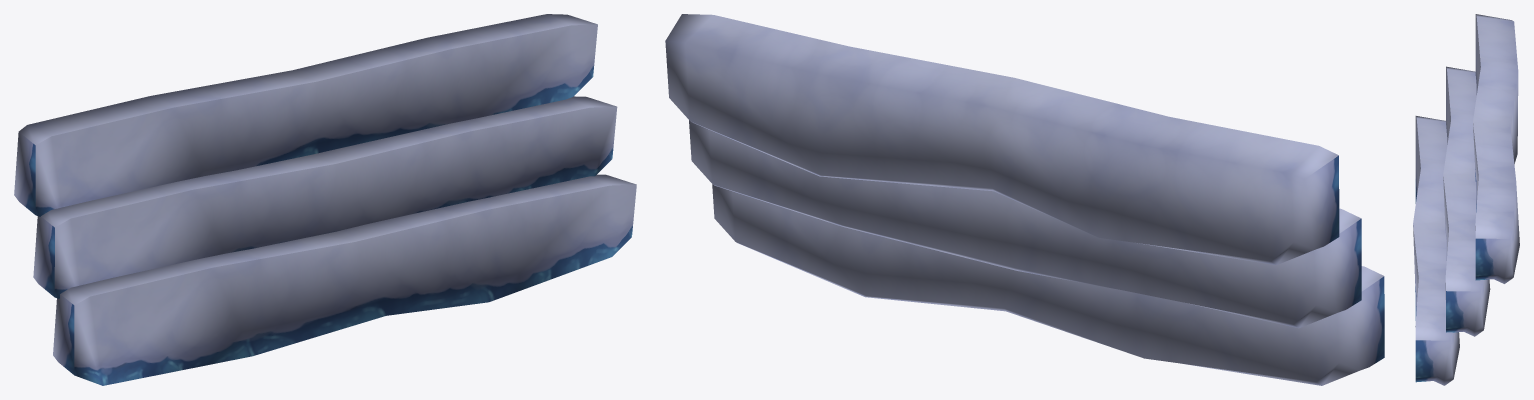
The model's file is ice_stairs_01.fbx.
3 renders of one model, left to right at view 1: azimuth 30°, elevation 25°; view 2: azimuth 150°, elevation 25°; view 3: azimuth 270°, elevation 25°, orthographic. The views are drawn at different scales.
Parts seen in each view (by area): view 1: ice_stairs_01; view 2: ice_stairs_01; view 3: ice_stairs_01.
Boxes of the visible parts, box(x1,y1,x2,y2) form: ice_stairs_01: box(14, 14, 636, 385); ice_stairs_01: box(665, 14, 1384, 385); ice_stairs_01: box(1413, 14, 1519, 385).
Size of the model in its own units: 4 by 1.65 by 0.8512.
